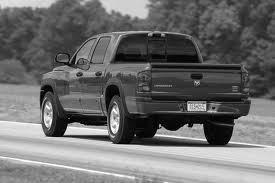car: (41, 33, 253, 145)
